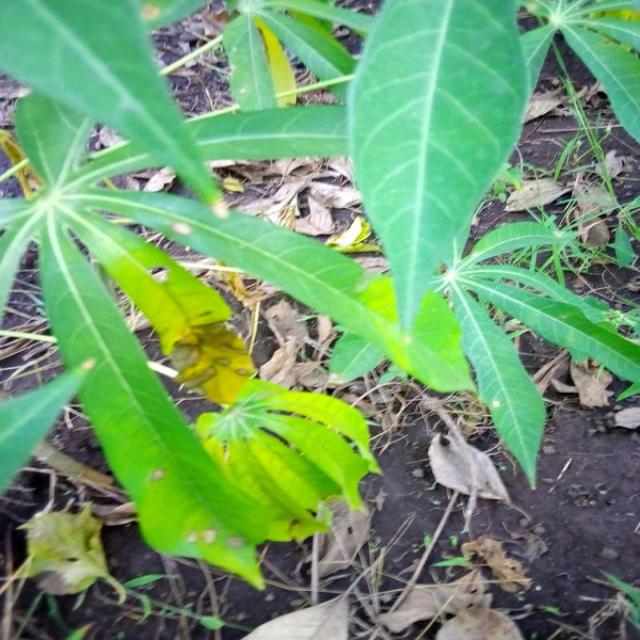cassava leaf: (2, 0, 639, 591), (38, 204, 270, 591), (346, 0, 531, 343)
